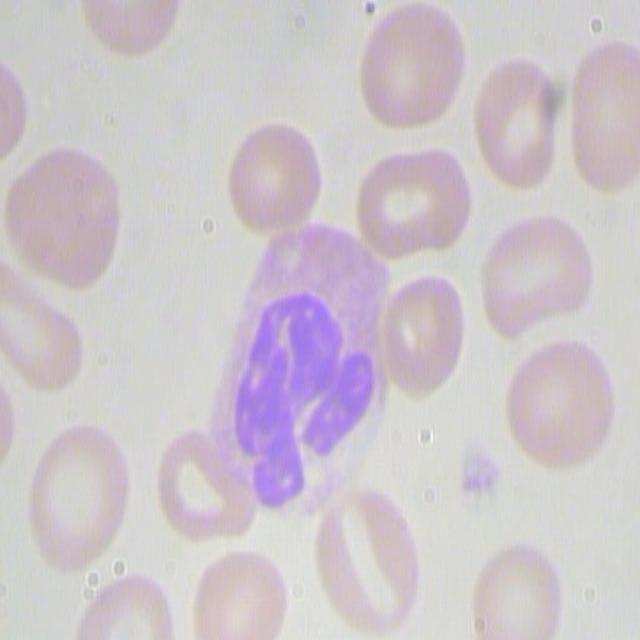RBC: (3, 142, 123, 305), (309, 479, 425, 637), (26, 418, 137, 573), (475, 207, 597, 347), (501, 335, 619, 475), (354, 137, 474, 266), (356, 0, 473, 132), (472, 51, 570, 192), (557, 32, 640, 190), (374, 264, 464, 405), (226, 120, 326, 245), (150, 429, 253, 550), (466, 535, 570, 638), (183, 545, 285, 638), (3, 290, 85, 400), (74, 572, 179, 640), (78, 0, 188, 61)
WBC: (232, 241, 376, 505)
